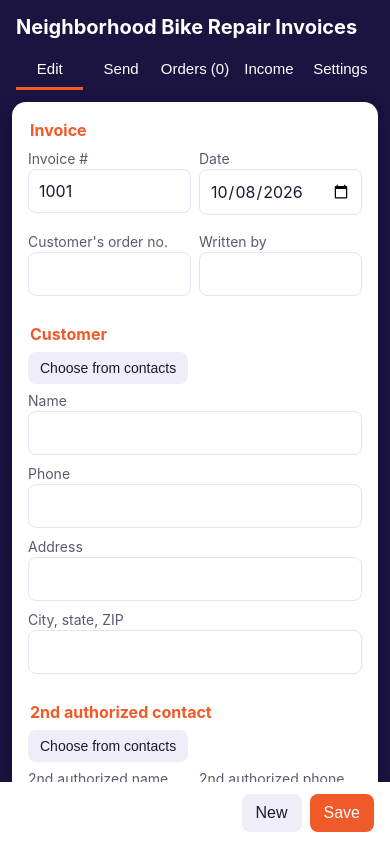
Test: invoice app › fills the customer from phone contacts
Click the 1st button "Choose from contacts" at point(108, 368), box [28,352,188,384]
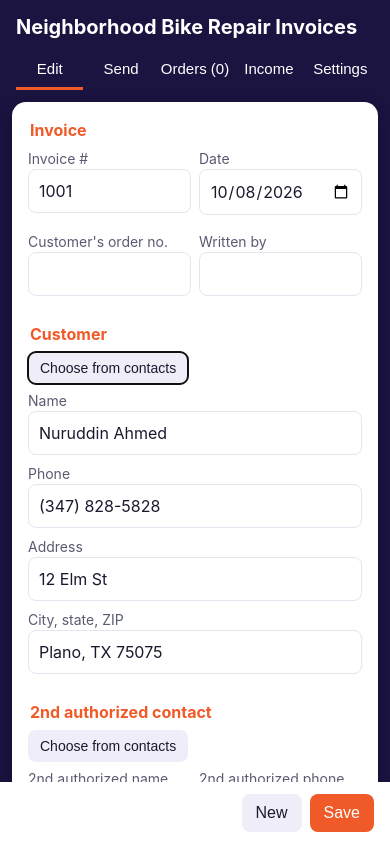
Result: the field labelled "Name" holds "Nuruddin Ahmed" at [28,411,362,455]
Result: the field labelled "Phone" holds "(347) 828-5828" at [28,484,362,528]
Result: the field labelled "City, state, ZIP" holds "Plano, TX 75075" at [28,630,362,674]
